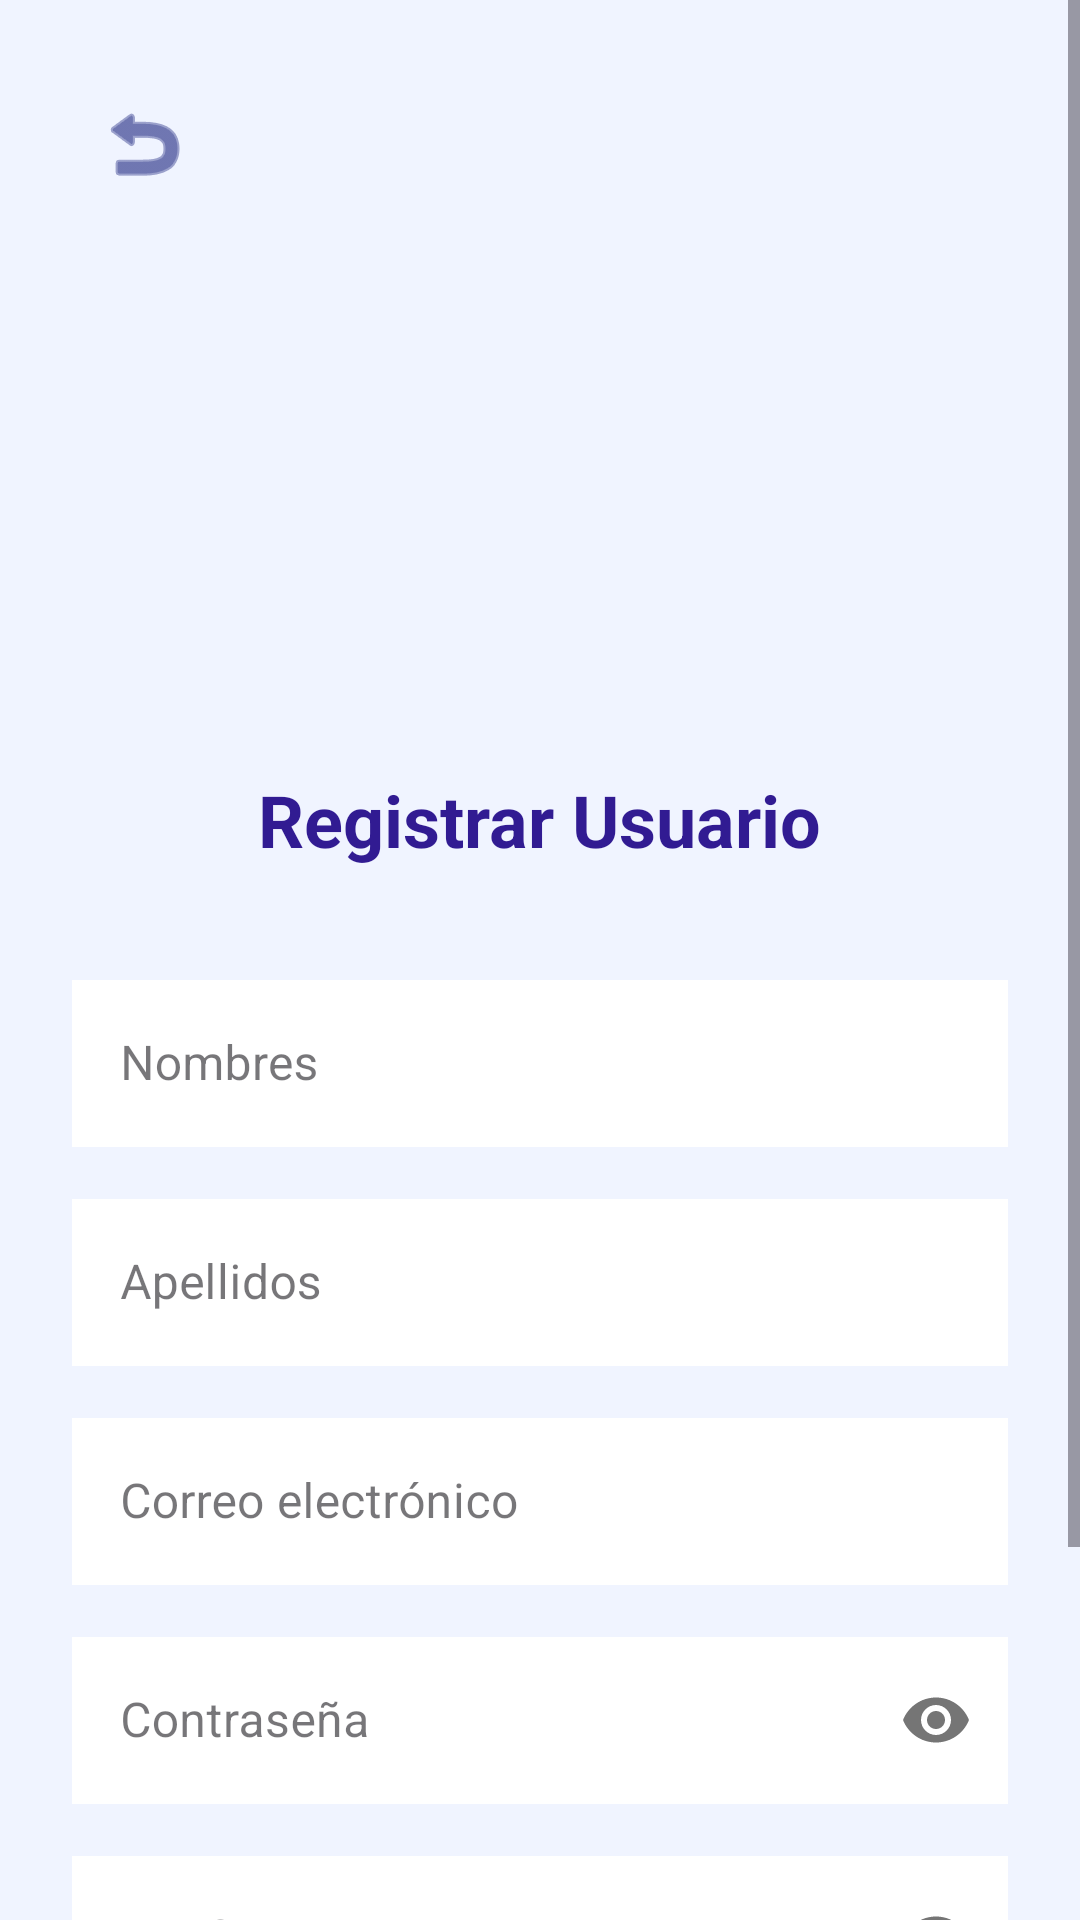

Named icons in this screenshot (1080x1920) and their bounding boxes, (x1, y1, x2, y2):
Volver: (111, 113, 180, 176)
